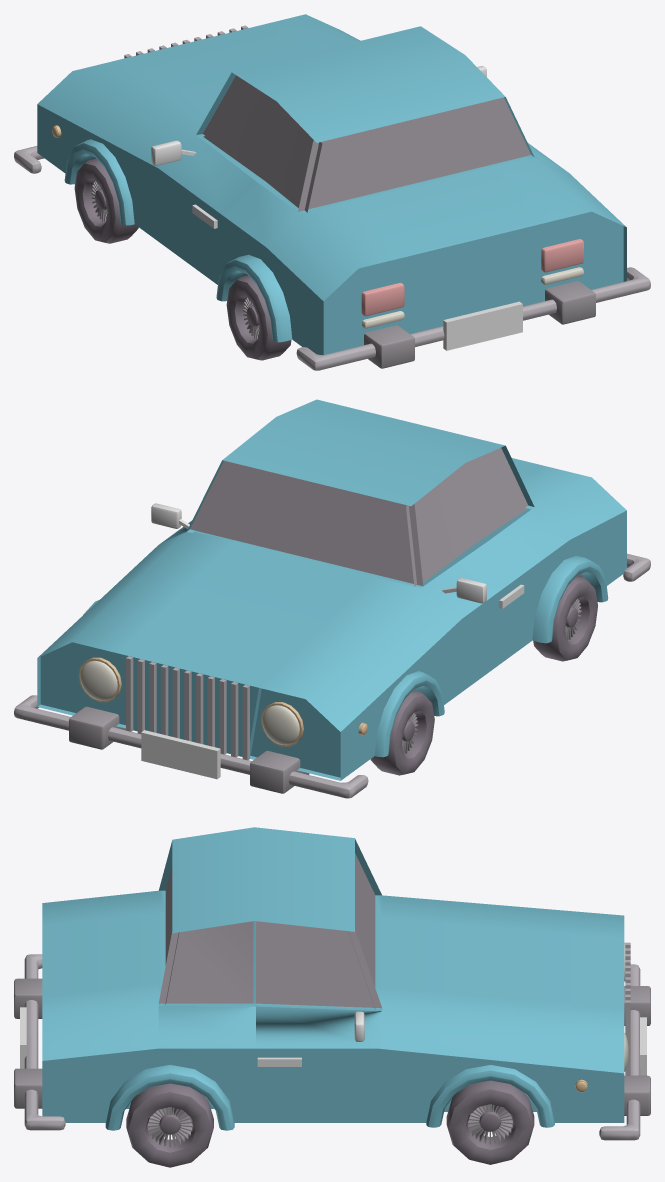
Rendered from car.gltf.
The picture shows the model from 3 angles, top to bottom: view 1: azimuth 30°, elevation 25°; view 2: azimuth 150°, elevation 25°; view 3: azimuth 270°, elevation 25°; orthographic projection.
Visible parts, largest first — view 1: 立方体-mat, 立方体-windows, 立方体.6 (×2), 管道 (×2), 管道.1 (×2), 立方体.7, 立方体.2, 立方体.3 (×2), 立方体.4; view 2: 立方体-mat, 立方体-windows, 管道 (×2), 管道.1 (×2), 立方体.5, 立方体.4, 立方体, 球体, 立方体.3, 圆柱体, 立方体.8, 立方体.13 (+3 smaller); view 3: 立方体-mat, 立方体-windows (×2), 管道 (×2), 管道.1 (×2), 立方体.6, 立方体.4, 立方体.7, 立方体.5.
Part boxes in pixels (<box>): 立方体-mat: <box>37,14,626,354</box>; 立方体-windows: <box>203,75,530,212</box>; 立方体.6 (×2): <box>296,267,650,370</box>; 管道 (×2): <box>74,158,291,360</box>; 管道.1 (×2): <box>64,139,292,342</box>; 立方体.7: <box>364,281,595,368</box>; 立方体.2: <box>361,239,583,316</box>; 立方体.3 (×2): <box>151,66,583,328</box>; 立方体.4: <box>14,146,43,173</box>; 立方体-mat: <box>37,399,626,780</box>; 立方体-windows: <box>190,448,528,586</box>; 管道 (×2): <box>370,576,597,775</box>; 管道.1 (×2): <box>83,555,608,757</box>; 立方体.5: <box>69,706,309,793</box>; 立方体.4: <box>14,695,368,798</box>; 立方体: <box>141,730,220,779</box>; 球体: <box>80,660,299,745</box>; 立方体.3: <box>151,503,486,603</box>; 圆柱体: <box>78,657,303,746</box>; 立方体.8: <box>126,656,133,731</box>; 立方体.13: <box>242,684,249,760</box>; 立方体-mat: <box>42,827,624,1122</box>; 立方体-windows (×2): <box>158,853,381,1009</box>; 管道 (×2): <box>126,1080,534,1167</box>; 管道.1 (×2): <box>105,1065,554,1130</box>; 立方体.6: <box>24,954,65,1130</box>; 立方体.4: <box>599,964,640,1140</box>; 立方体.7: <box>14,978,42,1108</box>; 立方体.5: <box>624,986,650,1115</box>.
Bounding box in the file's own units: 290 × 172 × 465.
